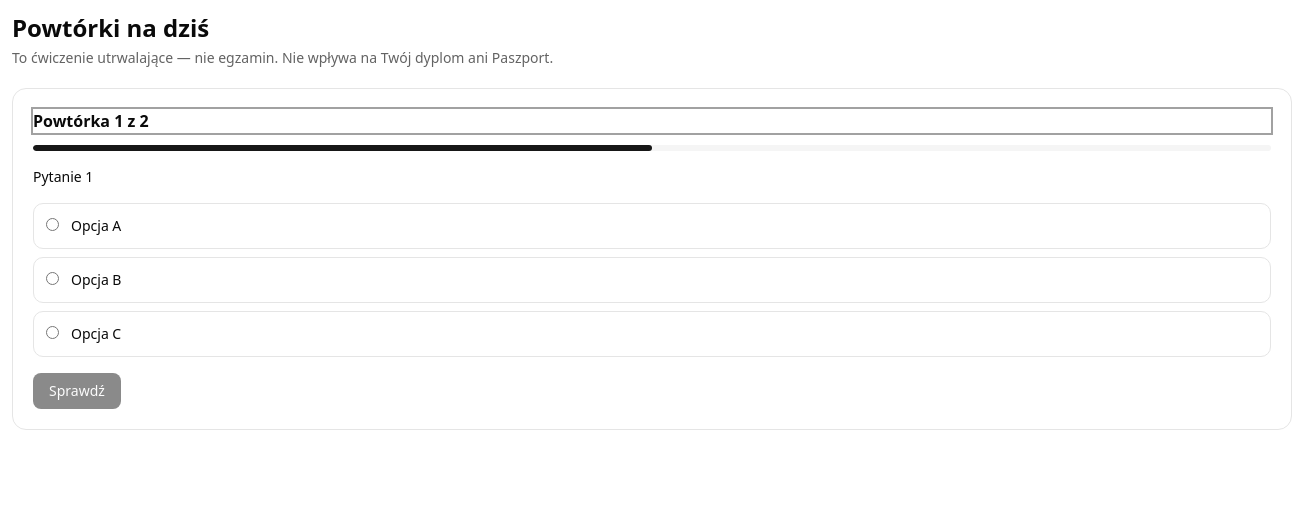
Test: ReviewRunner — mapowanie kodów błędów › 409 (koncept już nie czeka) → auto-przejście do następnego z notą
Check: the heading "Powtórka 1 z 2" is shown, box [33,109,1271,133]
Click the radio button labelled "Opcja A" at (52,224), box [46,218,59,231]
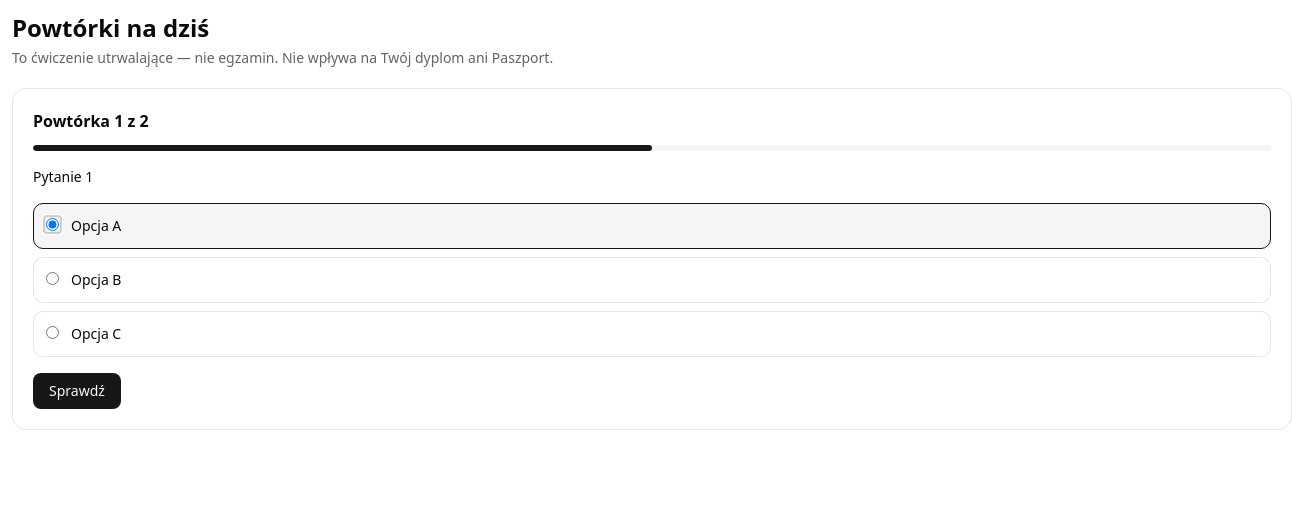
Click the button "Sprawdź" at (77,391), box [33,373,121,409]
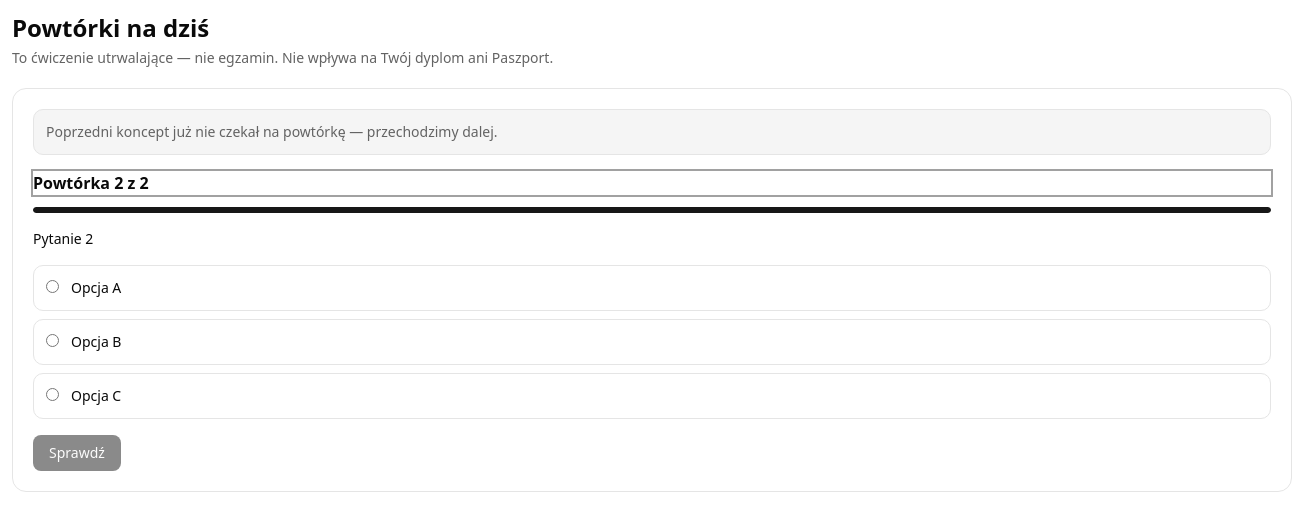
Check: the heading "Powtórka 2 z 2" is shown, box [33,171,1271,195]
Check: the text "już nie czekał na powtórkę" is shown, box [46,122,498,141]
